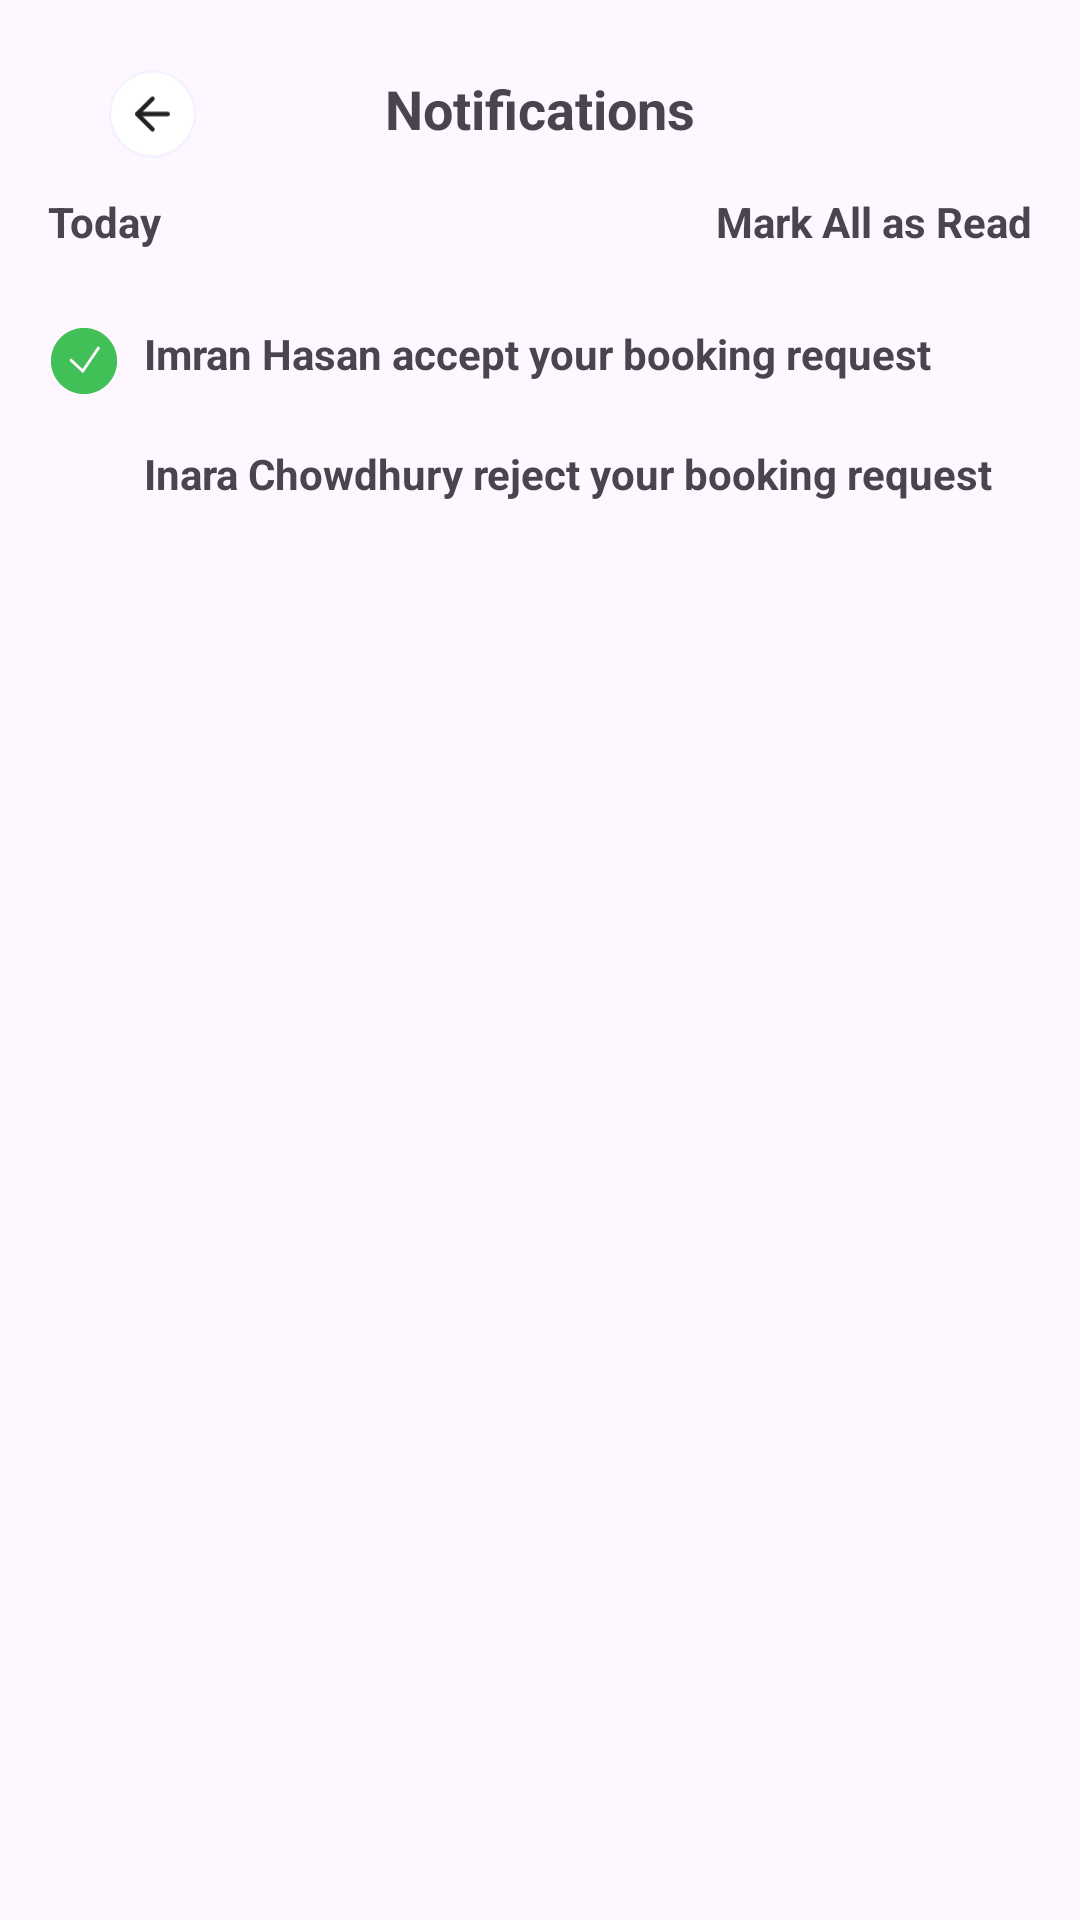

Where icons sit on this 1080px x 1920px app screen, as (x1, y1, x2, y2):
check circle: (51, 328, 117, 394)
